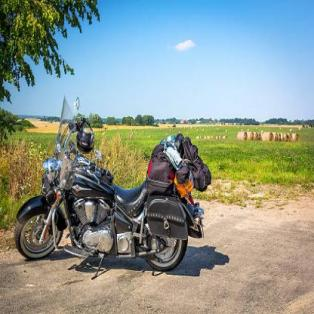Motocicleta: (14, 91, 210, 275)
